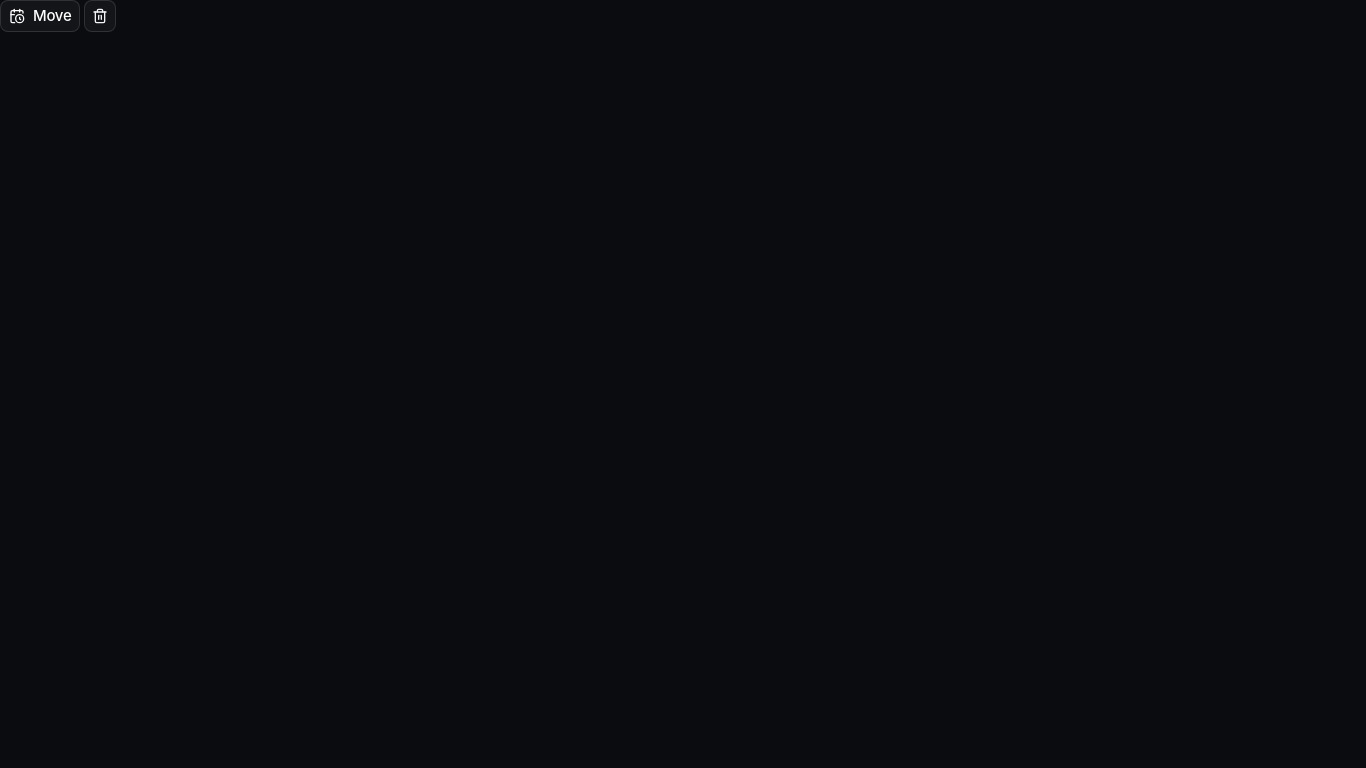
Test case: P05 Move date after the panel switches post › offers the shown post's own date
The width and height of the screenshot is (1366, 768).
Click the button with aria-label "Move to another date" at (40, 16), box [0, 0, 80, 32]
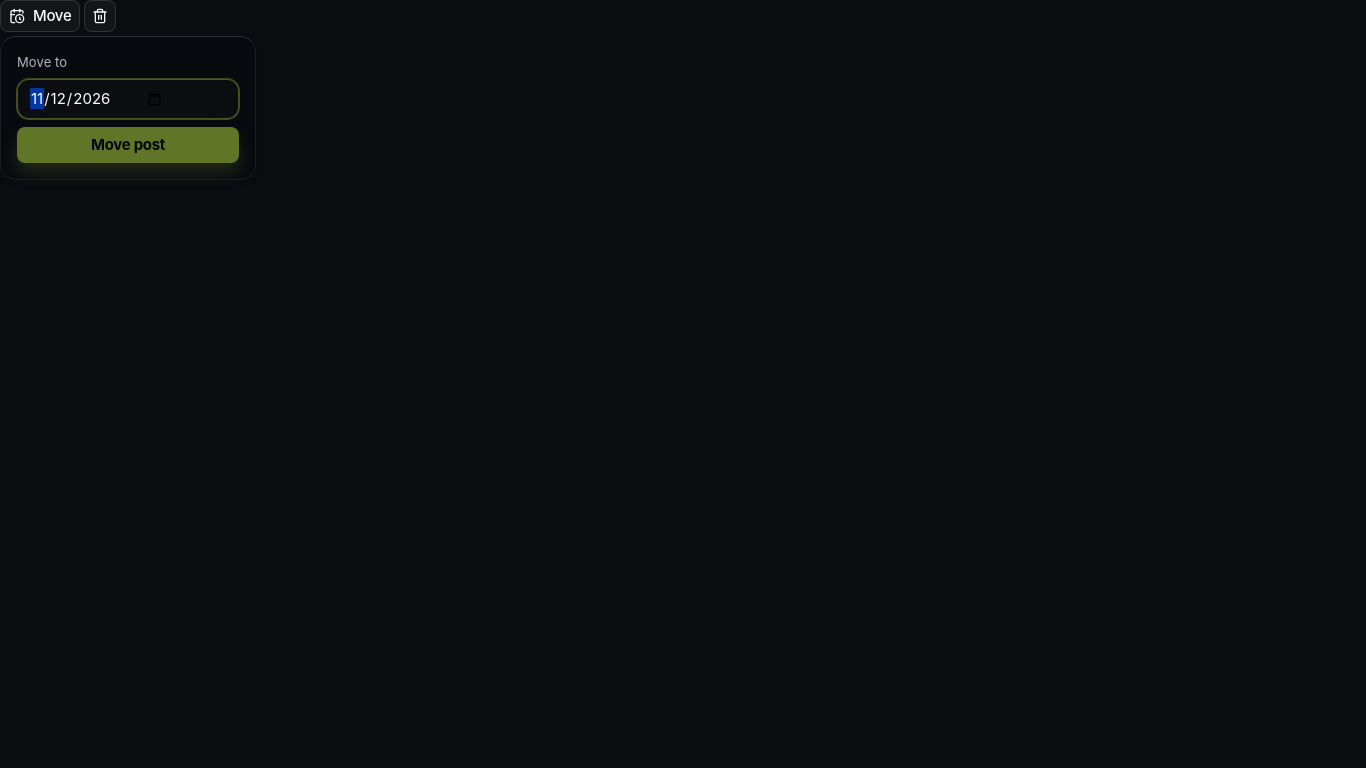
Expected: the date field named "New date" holds "2026-11-12", [17, 79, 239, 119]
